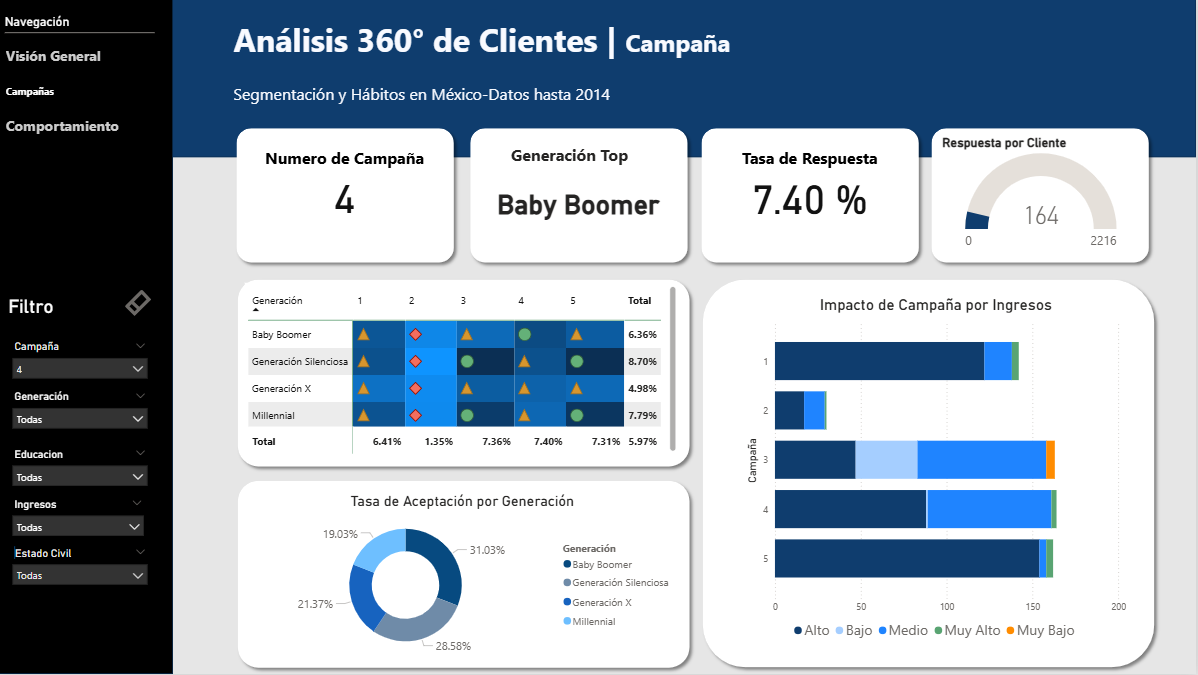

The page's visual inventory and layout, read from the dashboard file:
{"tool":"powerbi","page":{"name":"Campañas","canvas":[1600,900],"ordinal":1},"visuals":[{"type":"shape","box":[0,0,1600,210.9],"z":0},{"type":"shape","box":[623.4,162.5,307.8,196.9],"z":1000},{"type":"textbox","box":[311.7,20,883.3,86.7],"z":2000},{"type":"textbox","box":[310.9,106.2,832.8,42.2],"z":3000},{"type":"shape","box":[0,0,235.9,900],"z":4000},{"type":"shape","box":[310.9,162.5,307.8,196.9],"z":5000},{"type":"slicer","fields":{"Values":["dim_cliente.Educacion"]},"box":[10.9,593.8,200,65.6],"z":6000},{"type":"slicer","fields":{"Values":["dim_campana.Numero_Campana"]},"box":[10.9,450,200,67.2],"z":7000},{"type":"slicer","fields":{"Values":["dim_cliente.Estado_Civil"]},"box":[10.9,725,200,65.6],"z":8000},{"type":"actionButton","box":[168.8,382.8,42.2,43.8],"z":9000},{"type":"textbox","title":"Filtro","box":[10.9,395.3,82.8,31.2],"z":10000},{"type":"slicer","fields":{"Values":["dim_cliente.Generación"]},"box":[10.9,517.2,200,76.6],"z":11000},{"type":"slicer","fields":{"Values":["dim_cliente.categoria_ingresos"]},"box":[10.9,659.4,195.3,65.6],"z":12000},{"type":"shape","box":[1239.1,162.5,307.8,196.9],"z":13000},{"type":"shape","box":[931.2,162.5,307.8,196.9],"z":14000},{"type":"shape","box":[312.5,365.6,620.3,267.2],"z":15000},{"type":"shape","box":[312.5,632.8,620.3,267.2],"z":16000},{"type":"shape","box":[933.3,365,620,535],"z":17000},{"type":"cardVisual","fields":{"Data":["Avg(fact_respuestas_campanas.Respuesta)"]},"box":[950,180,270,116.7],"z":18000},{"type":"card","fields":{"Values":["medidas.Generación Top por Campaña"]},"box":[641.7,211.7,270,118.3],"z":19000},{"type":"donutChart","title":"Tasa de Aceptación por Generación","fields":{"Category":["dim_cliente.Generación"],"Y":["Avg(fact_respuestas_campanas.Respuesta)"]},"box":[331.7,658.3,580,225],"z":20000},{"type":"cardVisual","fields":{"Data":["Min(dim_campana.Numero_Campana)"]},"box":[331.7,180,266.7,131.7],"z":21000},{"type":"gauge","title":"Respuesta por Cliente","fields":{"Y":["Sum(fact_respuestas_campanas.Respuesta)"],"MaxValue":["CountNonNull(dim_cliente.Cliente_ID)"]},"box":[1256.7,181.7,273.3,161.7],"z":22000},{"type":"pivotTable","fields":{"Columns":["dim_campana.Numero_Campana"],"Rows":["dim_cliente.Generación"],"Values":["Avg(fact_respuestas_campanas.Respuesta)"]},"box":[331.7,378.3,580,233.3],"z":23000},{"type":"textbox","box":[681.7,188.3,190,48.3],"z":24000},{"type":"barChart","title":"Impacto de Campaña por Ingresos","fields":{"Category":["dim_campana.Numero_Campana"],"Y":["Sum(fact_respuestas_campanas.Respuesta)"],"Series":["dim_cliente.categoria_ingresos"]},"box":[995,395,516.7,468.3],"z":25000},{"type":"pageNavigator","title":"Navegación","box":[11.7,20,200,173.3],"z":25002}]}

Visuals, with their boxes on the page's 1600x900 design canvas (x1, y1, x2, y2). These are canvas units, not pixel positions in the 1198x675 screenshot, which may show the page scaled, cropped or inside an application window:
shape: [x1=0, y1=0, x2=1600, y2=211]
shape: [x1=623, y1=162, x2=931, y2=359]
textbox: [x1=312, y1=20, x2=1195, y2=107]
textbox: [x1=311, y1=106, x2=1144, y2=148]
shape: [x1=0, y1=0, x2=236, y2=900]
shape: [x1=311, y1=162, x2=619, y2=359]
slicer - dim_cliente.Educacion: [x1=11, y1=594, x2=211, y2=659]
slicer - dim_campana.Numero_Campana: [x1=11, y1=450, x2=211, y2=517]
slicer - dim_cliente.Estado_Civil: [x1=11, y1=725, x2=211, y2=791]
actionButton: [x1=169, y1=383, x2=211, y2=427]
"Filtro" textbox: [x1=11, y1=395, x2=94, y2=426]
slicer - dim_cliente.Generación: [x1=11, y1=517, x2=211, y2=594]
slicer - dim_cliente.categoria_ingresos: [x1=11, y1=659, x2=206, y2=725]
shape: [x1=1239, y1=162, x2=1547, y2=359]
shape: [x1=931, y1=162, x2=1239, y2=359]
shape: [x1=312, y1=366, x2=933, y2=633]
shape: [x1=312, y1=633, x2=933, y2=900]
shape: [x1=933, y1=365, x2=1553, y2=900]
cardVisual - Avg(fact_respuestas_campanas.Respuesta): [x1=950, y1=180, x2=1220, y2=297]
card - medidas.Generación Top por Campaña: [x1=642, y1=212, x2=912, y2=330]
"Tasa de Aceptación por Generación" donutChart: [x1=332, y1=658, x2=912, y2=883]
cardVisual - Min(dim_campana.Numero_Campana): [x1=332, y1=180, x2=598, y2=312]
"Respuesta por Cliente" gauge: [x1=1257, y1=182, x2=1530, y2=343]
pivotTable - dim_campana.Numero_Campana x dim_cliente.Generación: [x1=332, y1=378, x2=912, y2=612]
textbox: [x1=682, y1=188, x2=872, y2=237]
"Impacto de Campaña por Ingresos" barChart: [x1=995, y1=395, x2=1512, y2=863]
"Navegación" pageNavigator: [x1=12, y1=20, x2=212, y2=193]
